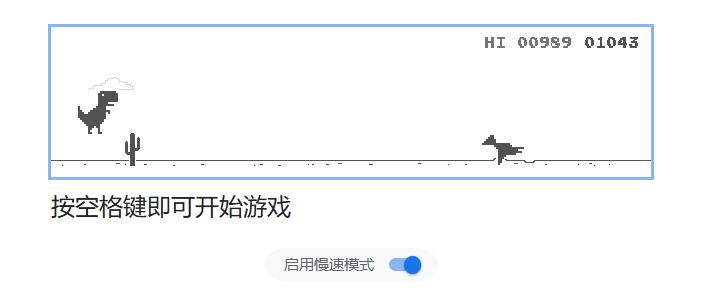bird: (482, 135, 524, 165)
cactus: (124, 132, 141, 167)
dino: (76, 87, 119, 134)
